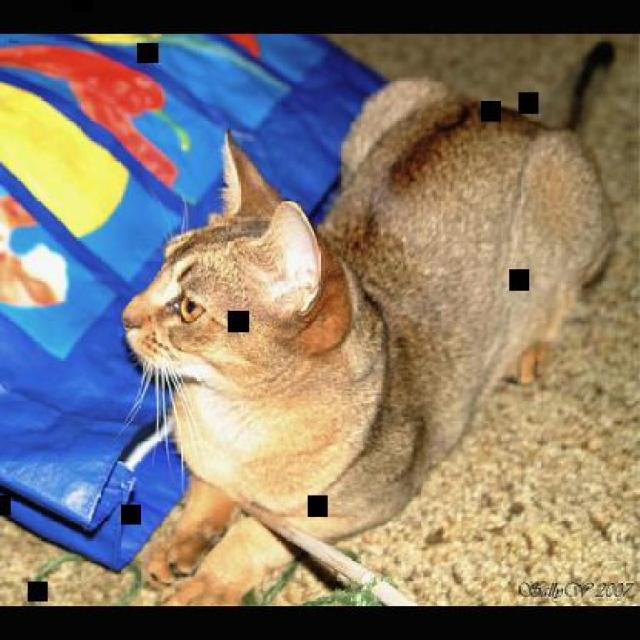unauthorized: (119, 40, 618, 594)
